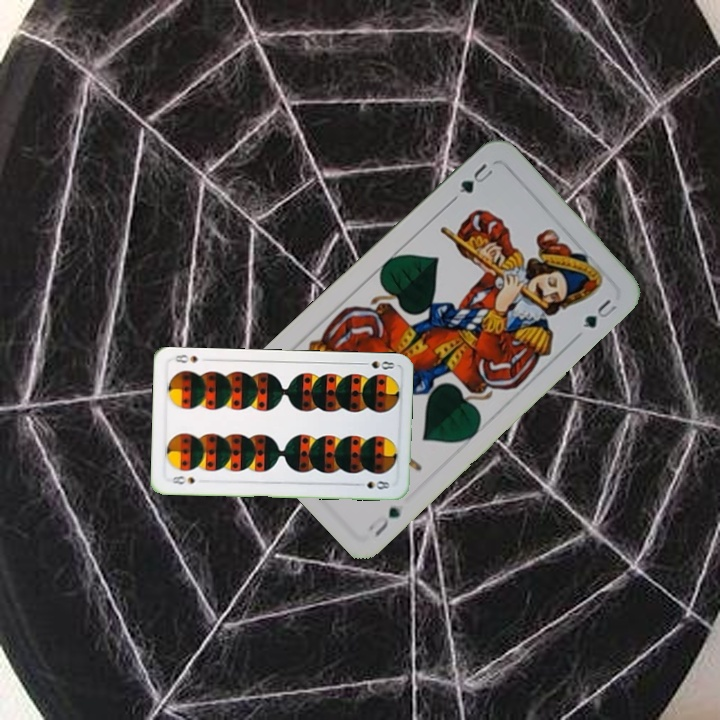GU: (455, 159, 496, 196), (364, 502, 403, 540)
S8: (357, 357, 397, 372), (168, 472, 197, 487)
